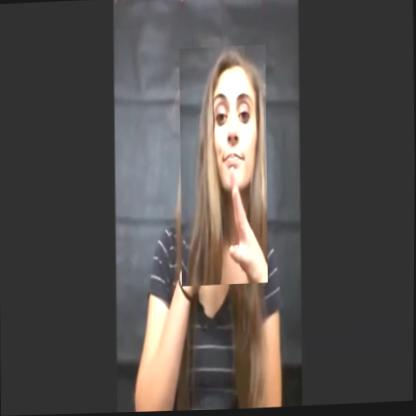Talk: (178, 46, 269, 287)
